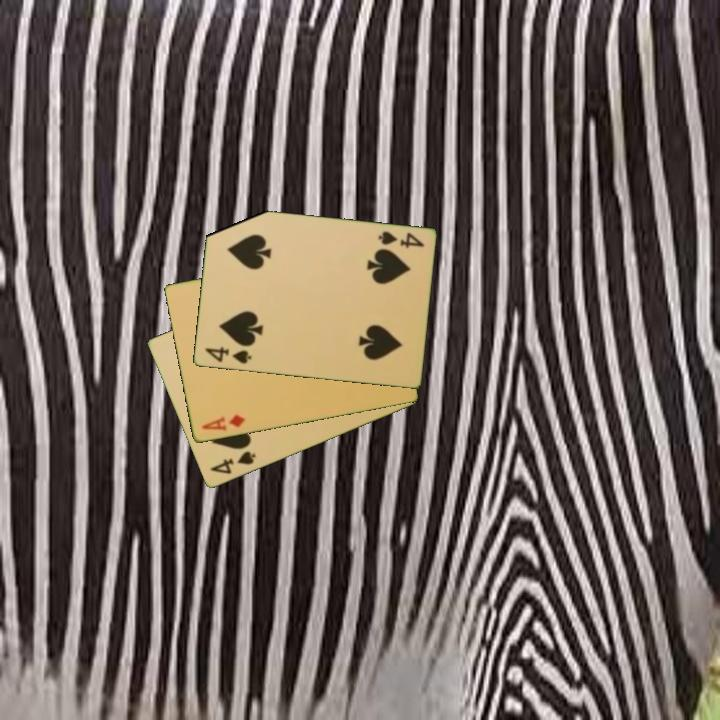4s: (206, 448, 258, 477), (201, 343, 254, 367), (375, 228, 426, 251)
Ad: (198, 411, 248, 434)
